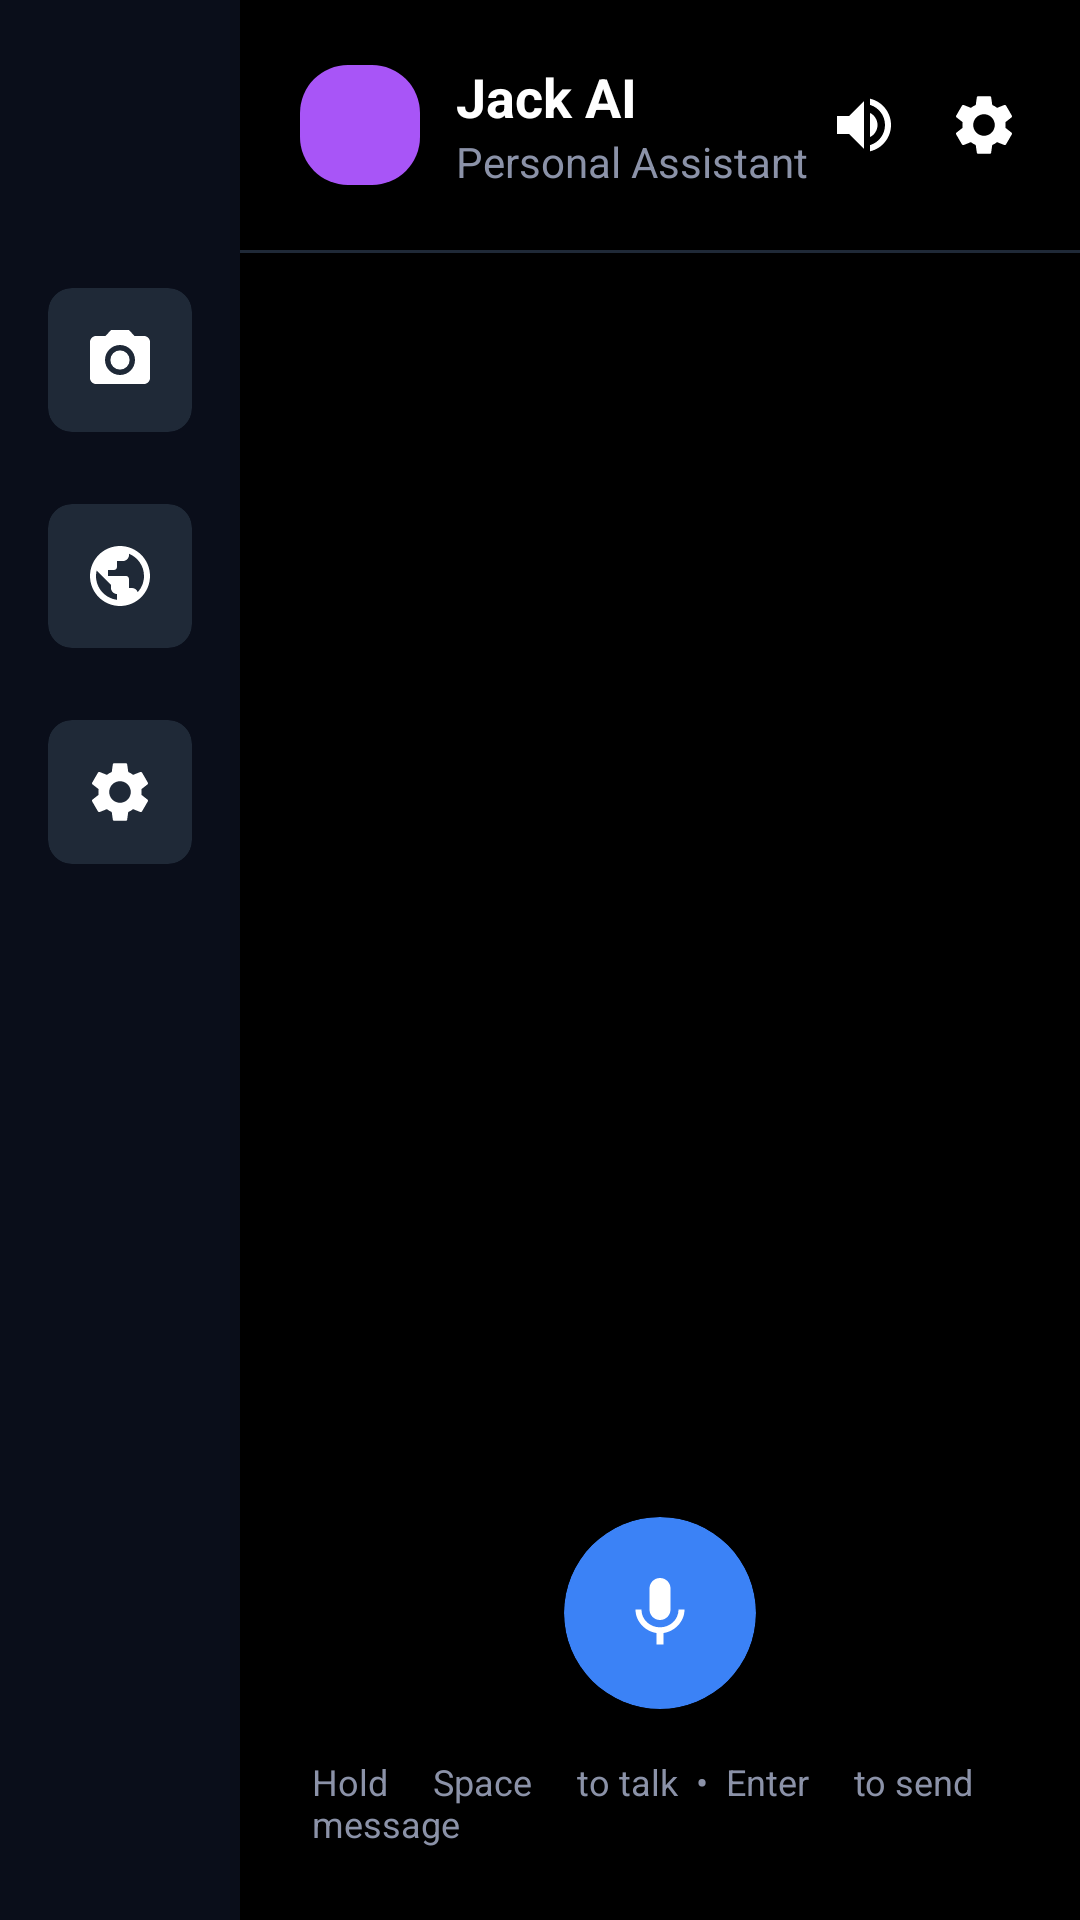

Named icons in this screenshot (1080w x 1920h) and their bounding boxes, bbox=(x1, y1, x2, y2):
camera: bbox=(90, 330, 150, 384)
globe: bbox=(90, 546, 150, 606)
microphone: bbox=(635, 1578, 685, 1645)
settings: bbox=(956, 96, 1012, 154), bbox=(92, 763, 148, 821)
volume: bbox=(837, 98, 891, 152)
